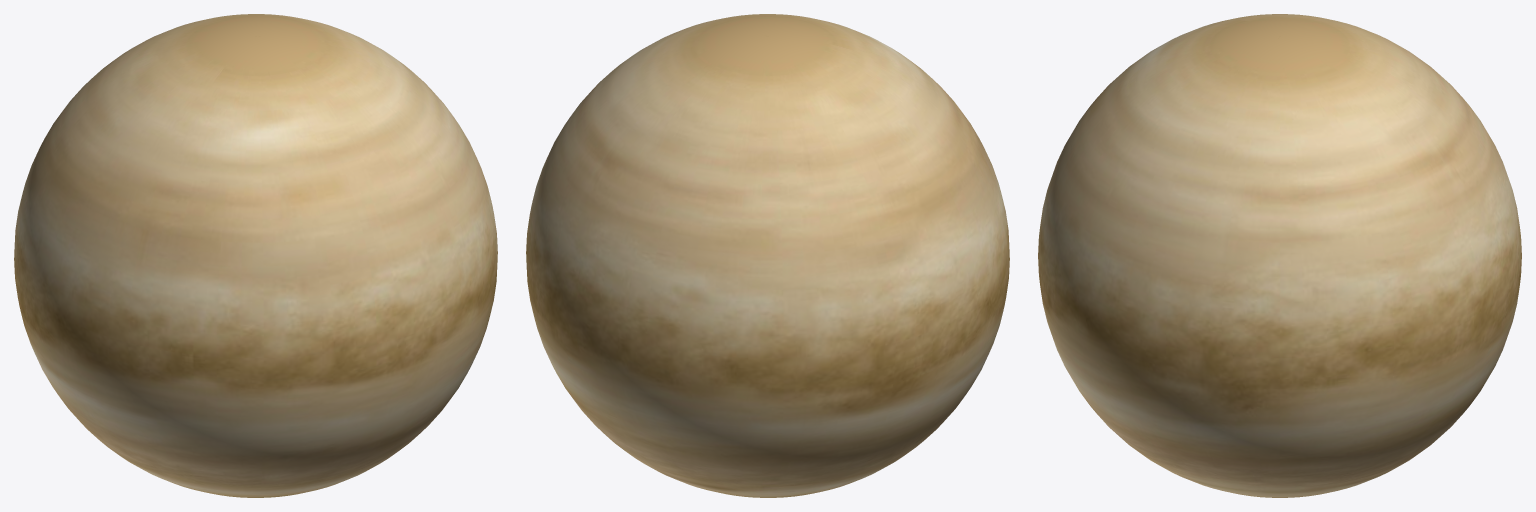
File: Venus.obj
3 views of the same model, side by side, from view 1: azimuth 30°, elevation 25°; view 2: azimuth 150°, elevation 25°; view 3: azimuth 270°, elevation 25° (orthographic).
Visible parts, largest first — view 1: Sphere; view 2: Sphere; view 3: Sphere.
Part boxes in pixels (box(x1,y1,x2,y2)): Sphere: box(14, 14, 497, 497); Sphere: box(526, 14, 1009, 497); Sphere: box(1038, 14, 1521, 497).
Bounding box in the file's own units: 19 × 19 × 19.
Materials: 1 (1 with a texture image).
